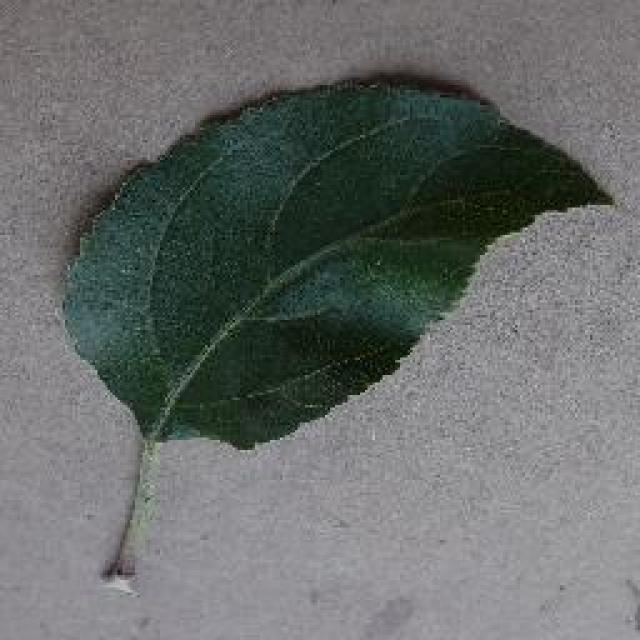apple healthy: (55, 68, 615, 582)
